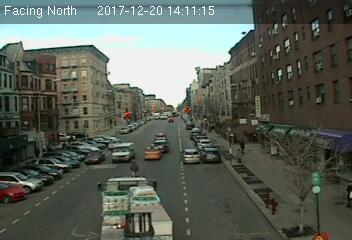car: (179, 148, 203, 164), (84, 148, 105, 164), (143, 144, 161, 160), (202, 147, 221, 162), (154, 139, 169, 152)
truck: (98, 174, 174, 240), (109, 141, 136, 163)
